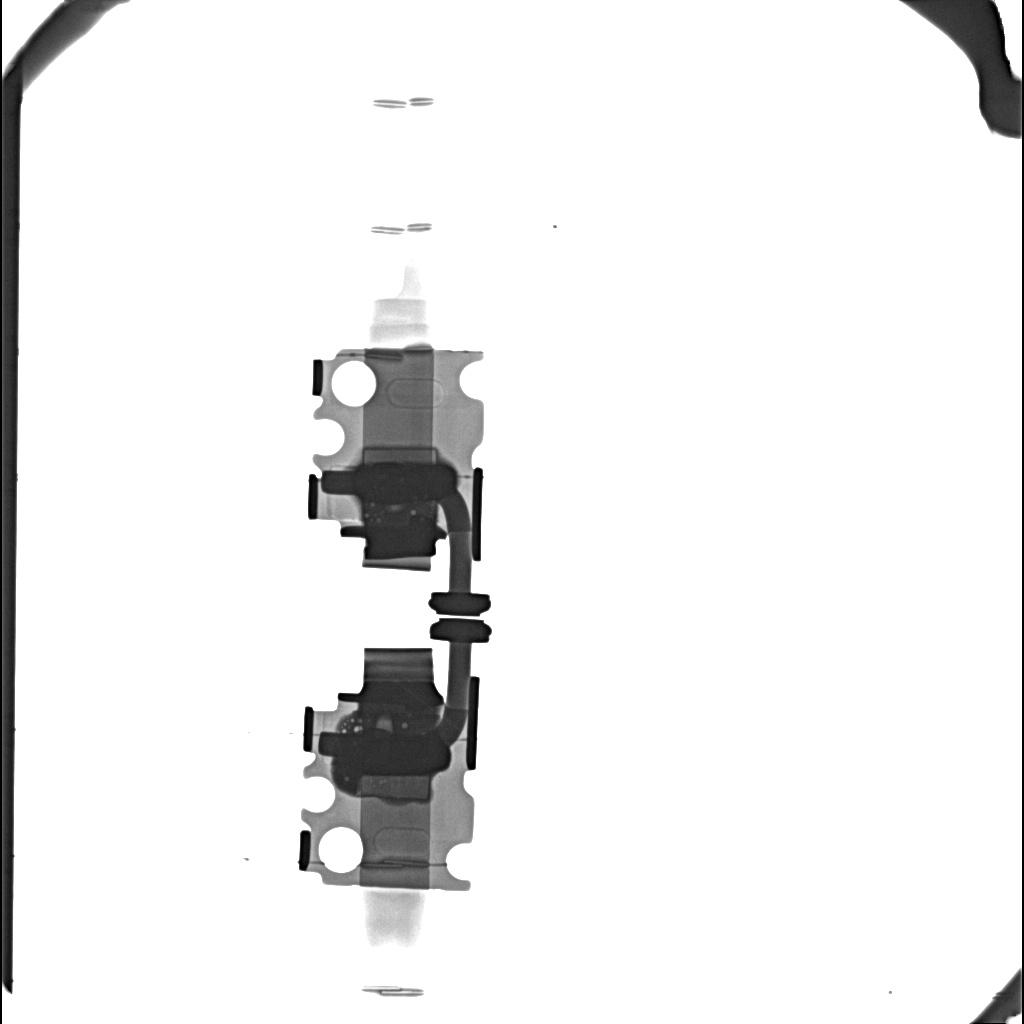PX: (353, 776, 431, 801), (362, 446, 439, 462)
QP: (374, 715, 392, 732), (401, 723, 408, 729)
SX: (337, 733, 449, 775), (352, 465, 455, 503)
